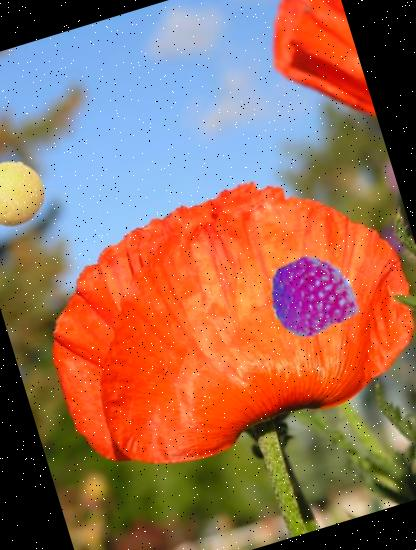Cantaloupe: (0, 151, 54, 236)
Raspberry: (260, 243, 362, 346)
